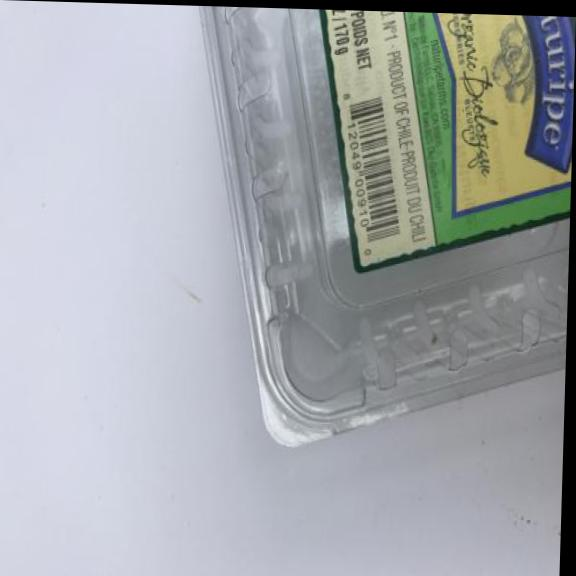Plastik: (176, 6, 575, 465)
